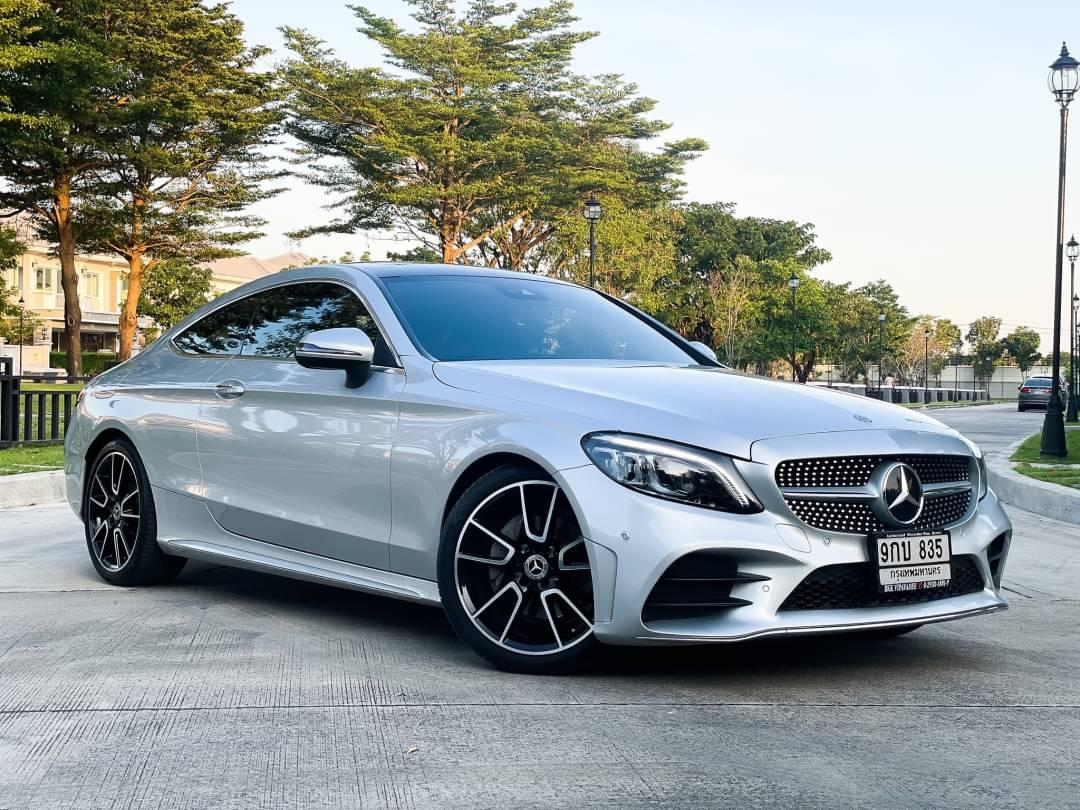license-plate: (865, 529, 958, 604)
